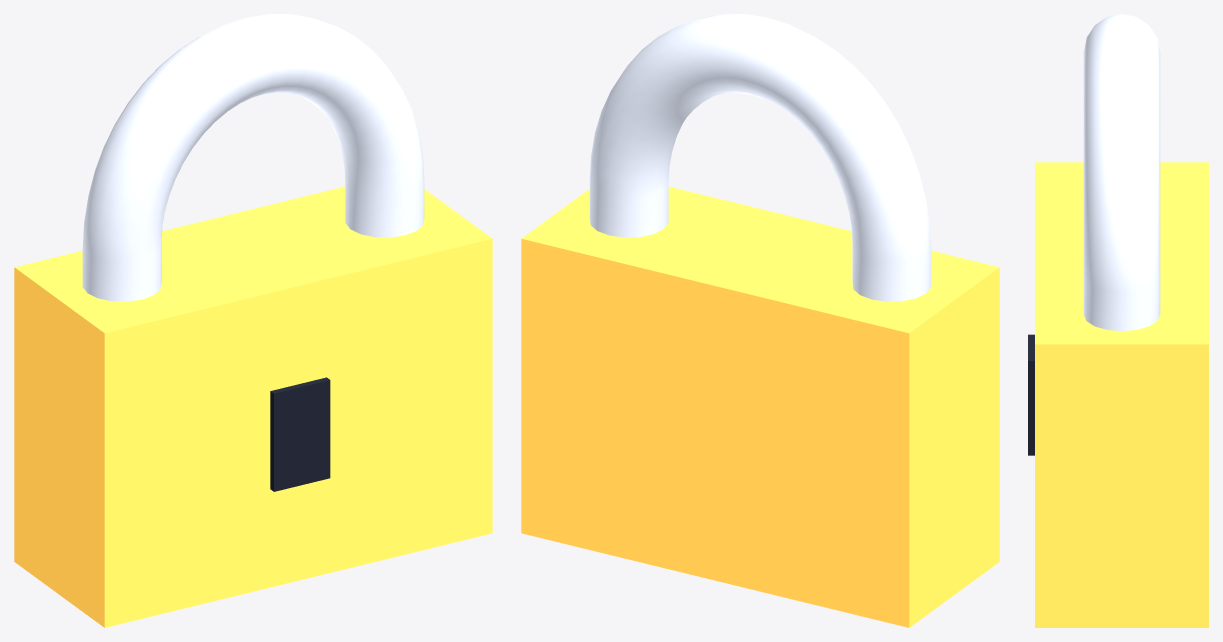
File: padlock.glb
3 views of the same model, side by side, from view 1: azimuth 30°, elevation 25°; view 2: azimuth 150°, elevation 25°; view 3: azimuth 270°, elevation 25° (orthographic). The views are drawn at different scales.
Visible parts, largest first — view 1: padlock; view 2: padlock; view 3: padlock.
Part boxes in pixels (x1,y1,x2,y2): padlock: (14, 14, 492, 627); padlock: (521, 14, 999, 627); padlock: (1028, 14, 1208, 627).
Bounding box in the file's own units: 1.24 × 1.61 × 0.52.
